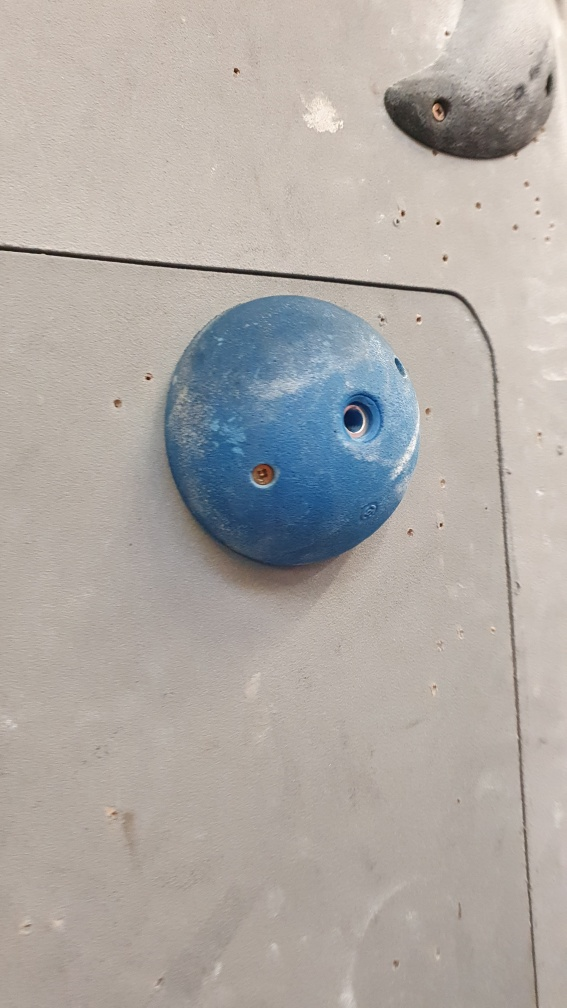Sloper: (162, 290, 425, 575)
